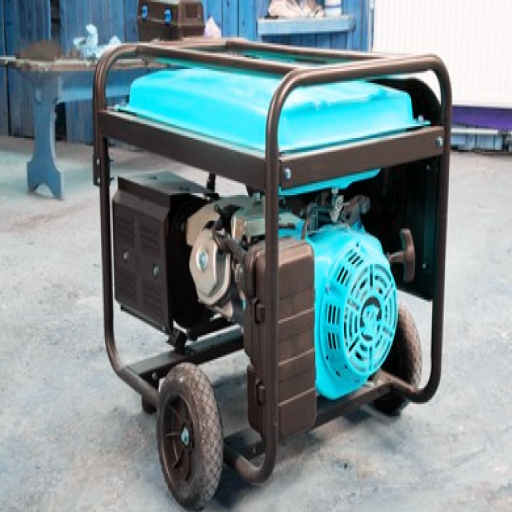portable_generator: (95, 37, 454, 487)
